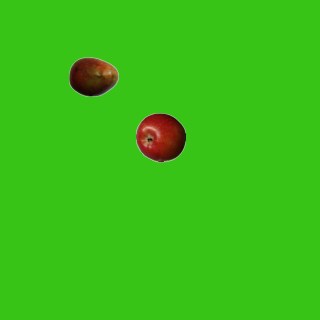Apple Braeburn: (135, 112, 185, 162)
Mango Red: (68, 51, 118, 101)
